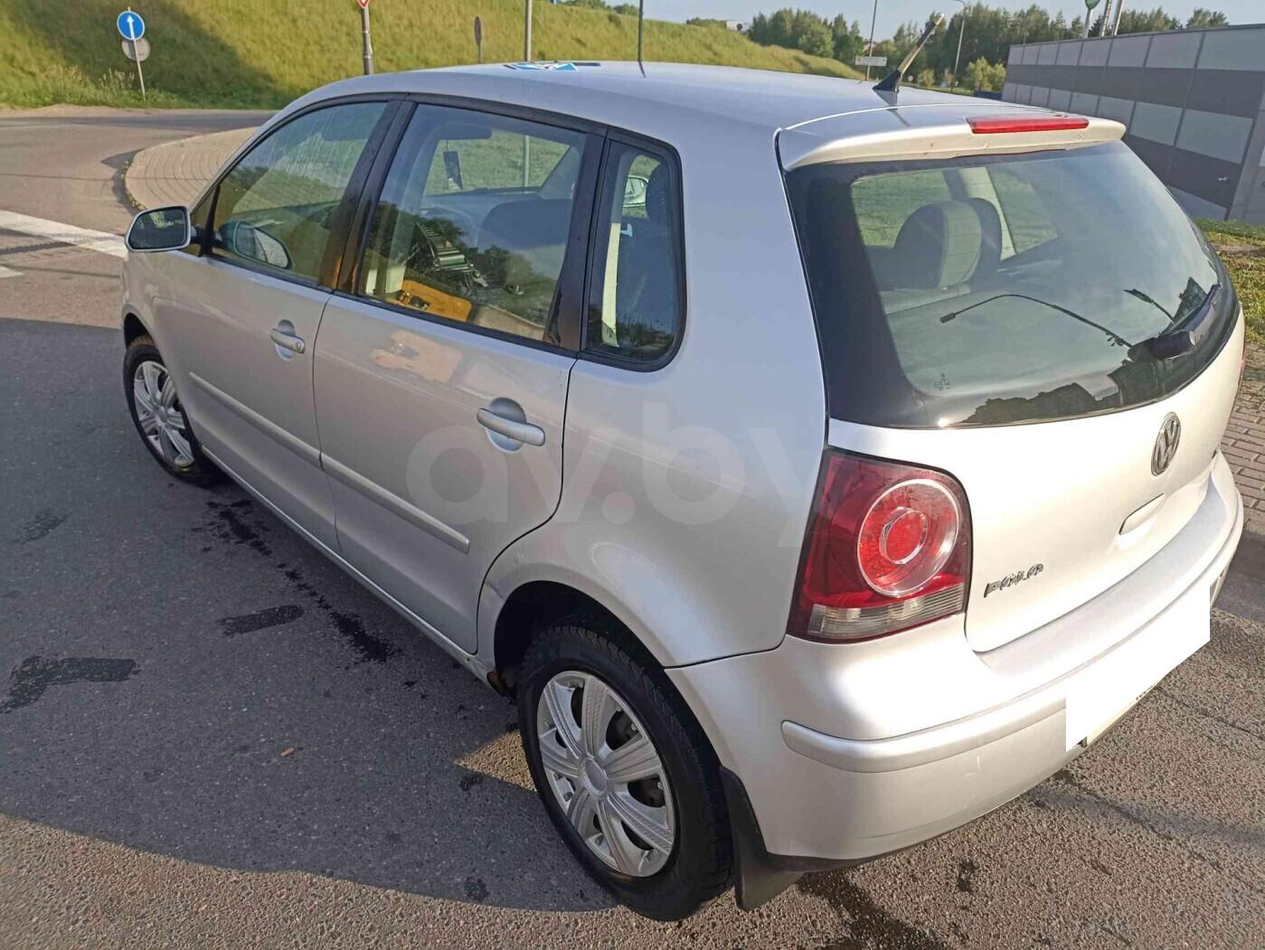Polo_2005-2009: (113, 64, 1264, 939)
